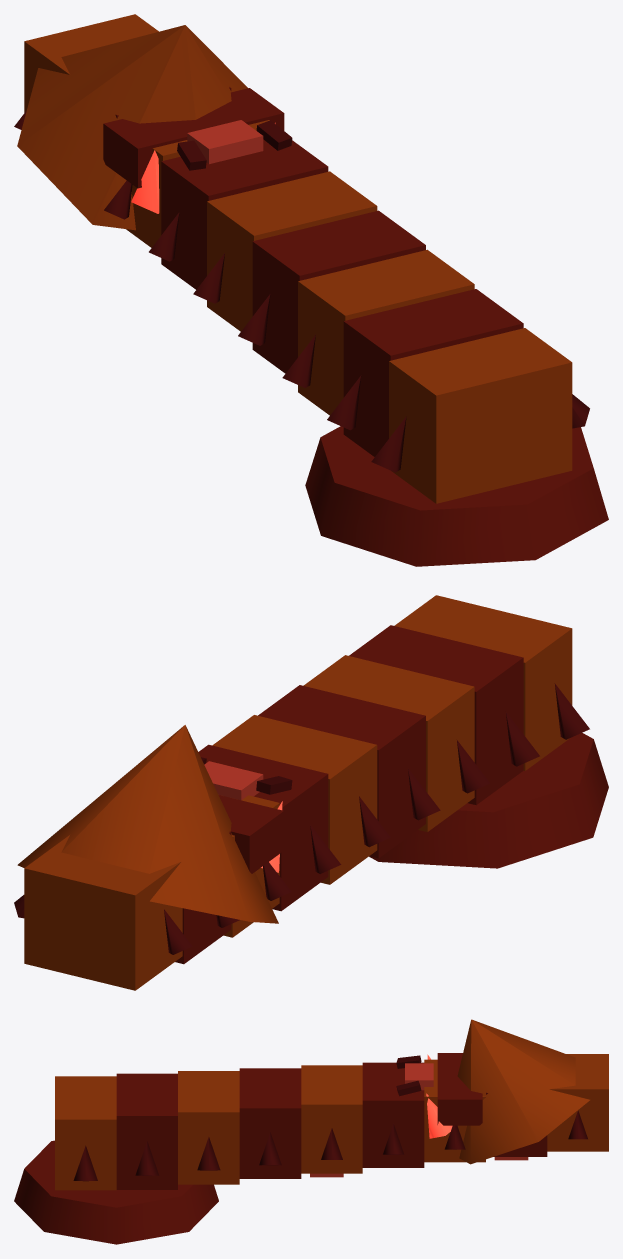
The model's file is DeathwormA.glb.
3 views of the same model, one above another, from view 1: azimuth 30°, elevation 25°; view 2: azimuth 150°, elevation 25°; view 3: azimuth 270°, elevation 25° (orthographic). The views are drawn at different scales.
Visible parts, largest first — view 1: DeathwormBody; view 2: DeathwormBody; view 3: DeathwormBody.
Part boxes in pixels (x1=…): DeathwormBody: x1=14, y1=14, x2=608, y2=566; DeathwormBody: x1=14, y1=595, x2=608, y2=990; DeathwormBody: x1=14, y1=1019, x2=608, y2=1244.
Size of the model in its own units: 0.8 by 0.7828 by 2.32.
